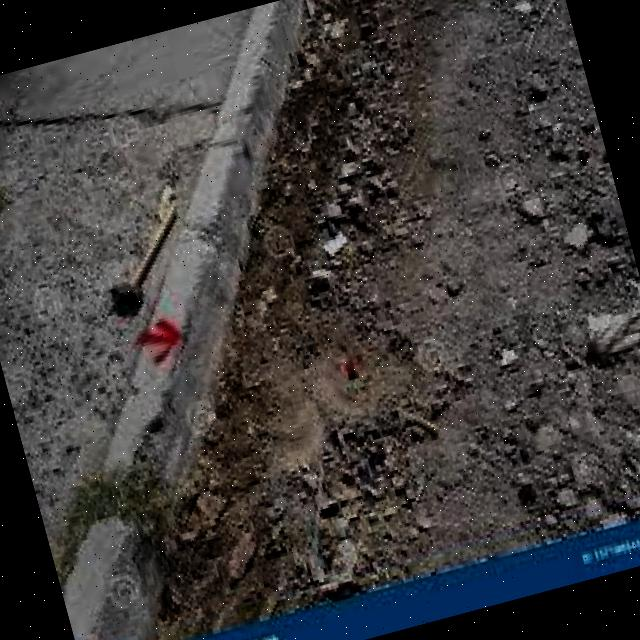curb: (65, 1, 309, 640)
